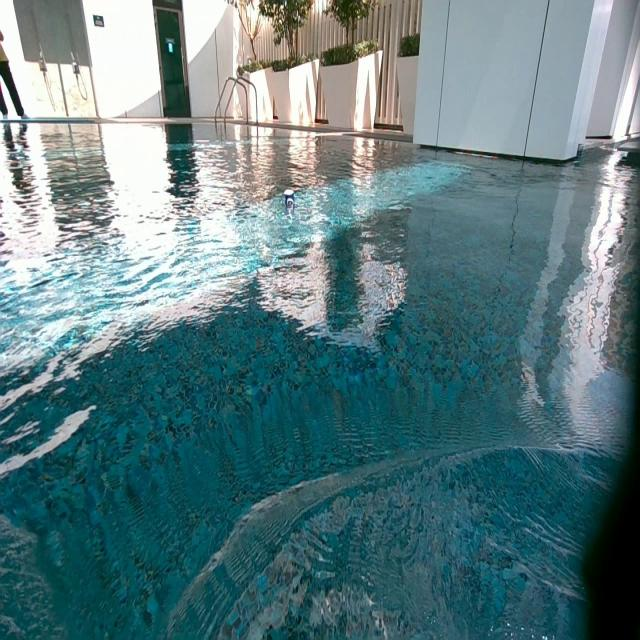Cans: (284, 190, 294, 208)
